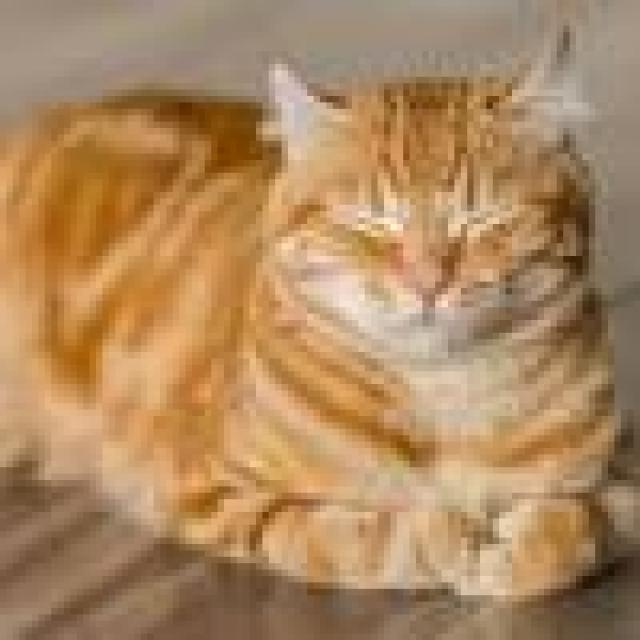cat-face: (227, 38, 618, 379)
